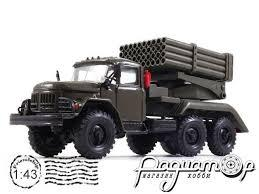MIL_SAM_TEL: (6, 35, 243, 157)
